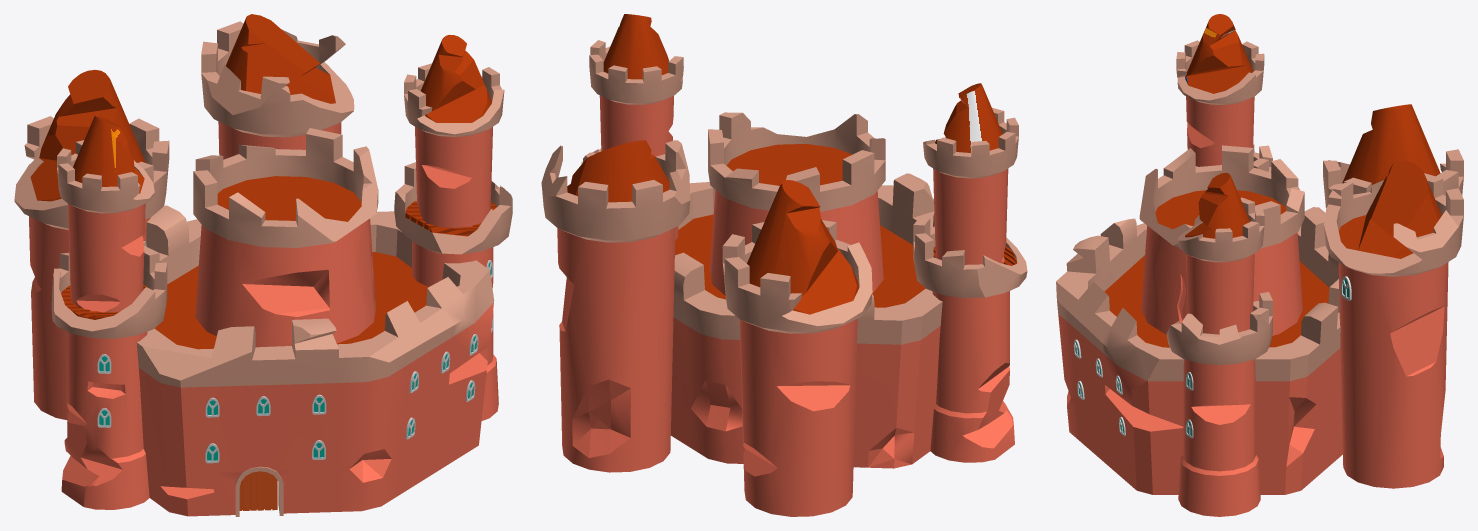
File: Big_Castle_Upgrade2_Stage2.fbx
3 renders of one model, left to right at view 1: azimuth 30°, elevation 25°; view 2: azimuth 150°, elevation 25°; view 3: azimuth 270°, elevation 25°, orthographic. The views are drawn at different scales.
Parts seen in each view (by area): view 1: Big_Castle_Upgrade2_Stage2.; view 2: Big_Castle_Upgrade2_Stage2.; view 3: Big_Castle_Upgrade2_Stage2..
Boxes of the visible parts, box(x1,y1,x2,y2) form: Big_Castle_Upgrade2_Stage2.: box(14, 14, 512, 516); Big_Castle_Upgrade2_Stage2.: box(541, 14, 1027, 516); Big_Castle_Upgrade2_Stage2.: box(1056, 14, 1463, 516).
Size of the model in its own units: 962 by 768 by 853.
Materials: 1 (1 with a texture image).
